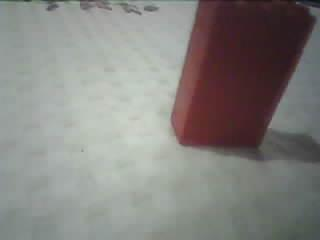lego: (169, 1, 320, 151)
